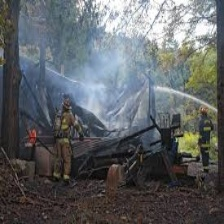smoke: (71, 57, 130, 110)
